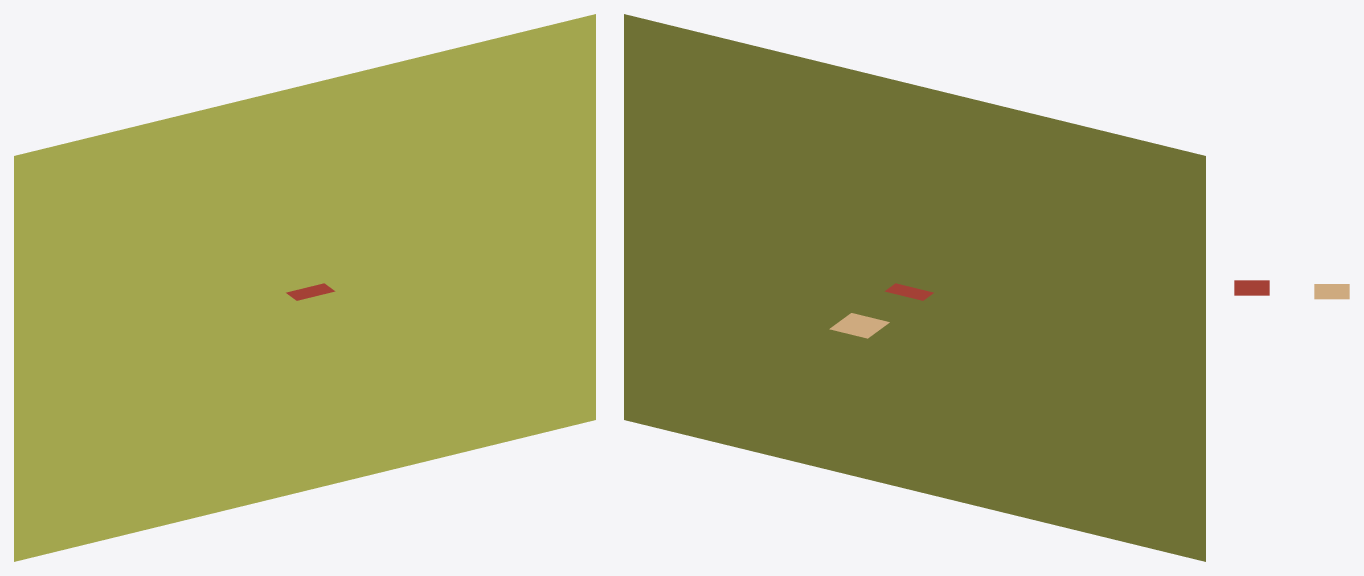
Rendered from color.fbx.
3 renders of one model, left to right at view 1: azimuth 30°, elevation 25°; view 2: azimuth 150°, elevation 25°; view 3: azimuth 270°, elevation 25°, orthographic. The views are drawn at different scales.
Visible parts, largest first — view 1: Plane; view 2: Plane, Plane.002; view 3: Plane.001, Plane.002.
Boxes of the visible parts, box(x1,y1,x2,y2) form: Plane: box(14, 14, 595, 561); Plane: box(624, 14, 1205, 561); Plane.002: box(829, 313, 889, 338); Plane.001: box(1234, 280, 1269, 295); Plane.002: box(1314, 284, 1349, 299).
Bounding box in the file's own units: 3000 × 2000 × 649.
